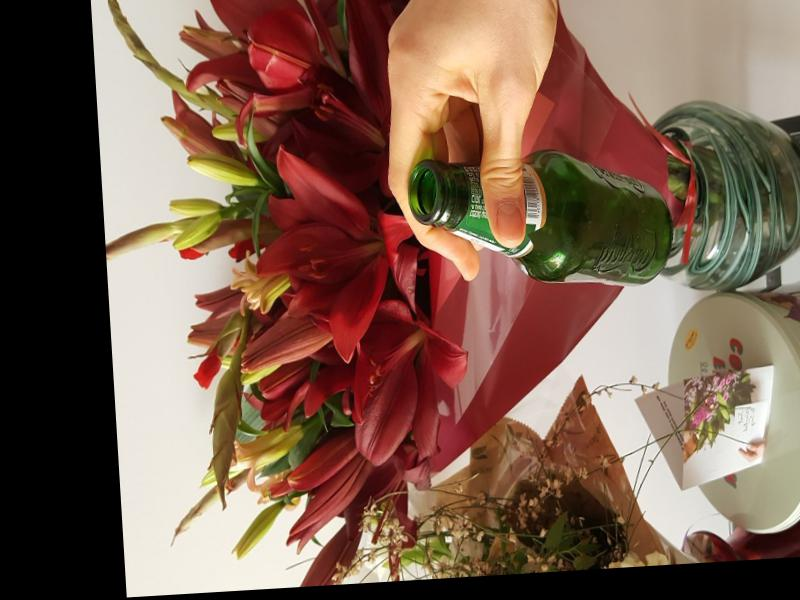Beer: (407, 142, 675, 300)
